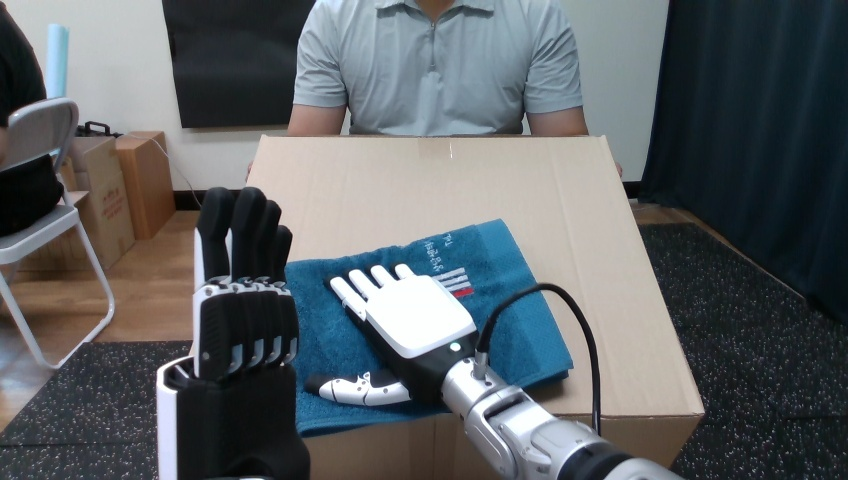left robot hand: (306, 263, 680, 479), (157, 187, 309, 478), (487, 289, 595, 429)
